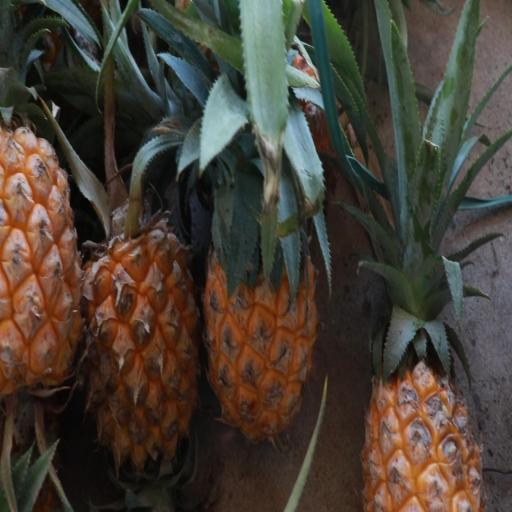Pineapple - v8 v1: (355, 139, 488, 512), (79, 164, 208, 488), (198, 128, 324, 452), (1, 100, 88, 420)
